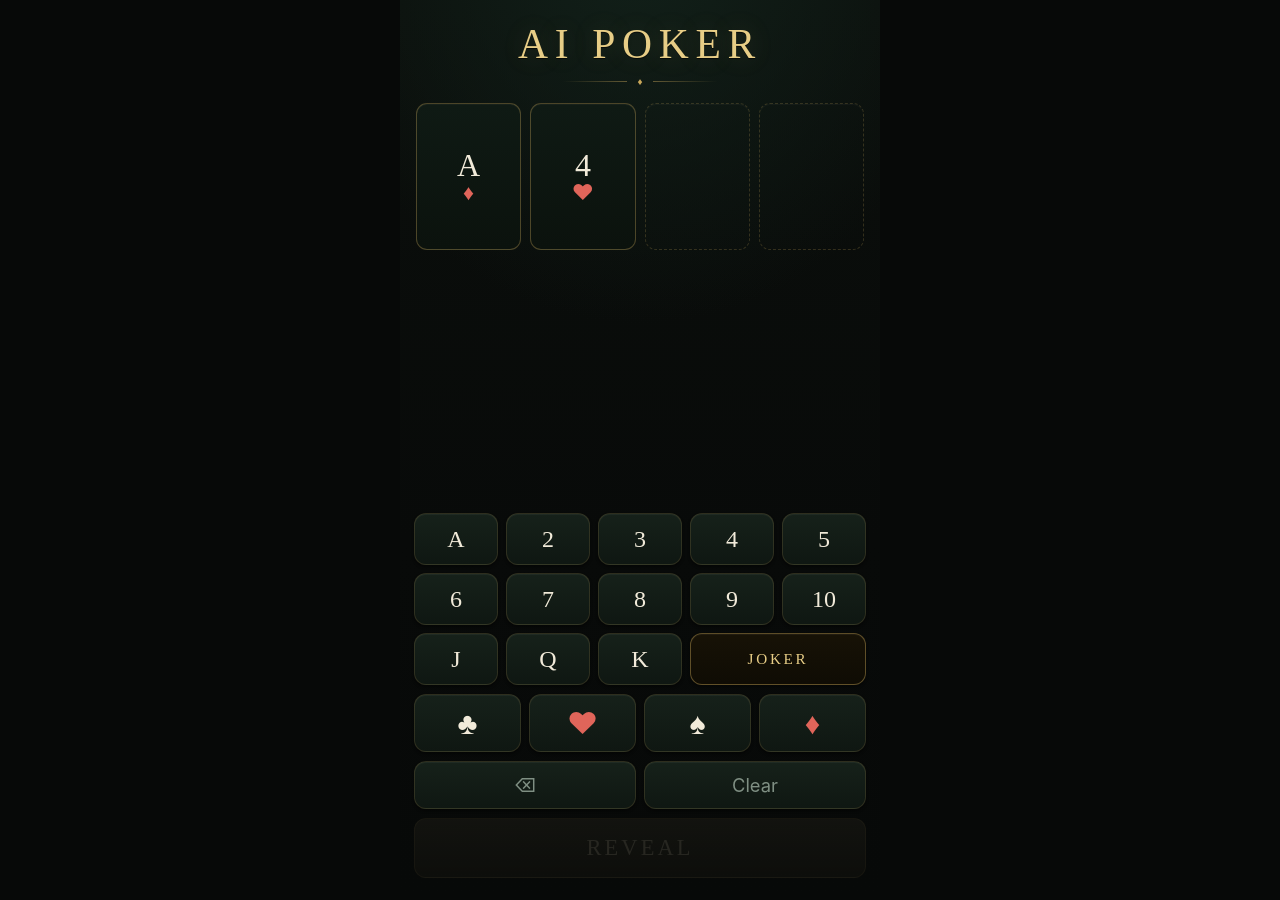
reveal flows › corrections cycle Instagram -> TikTok on successive Nos
The width and height of the screenshot is (1280, 900).
Earlier steps of the test are not shown.
Click the button "4": coordinates (732, 539) [690,513,774,565]
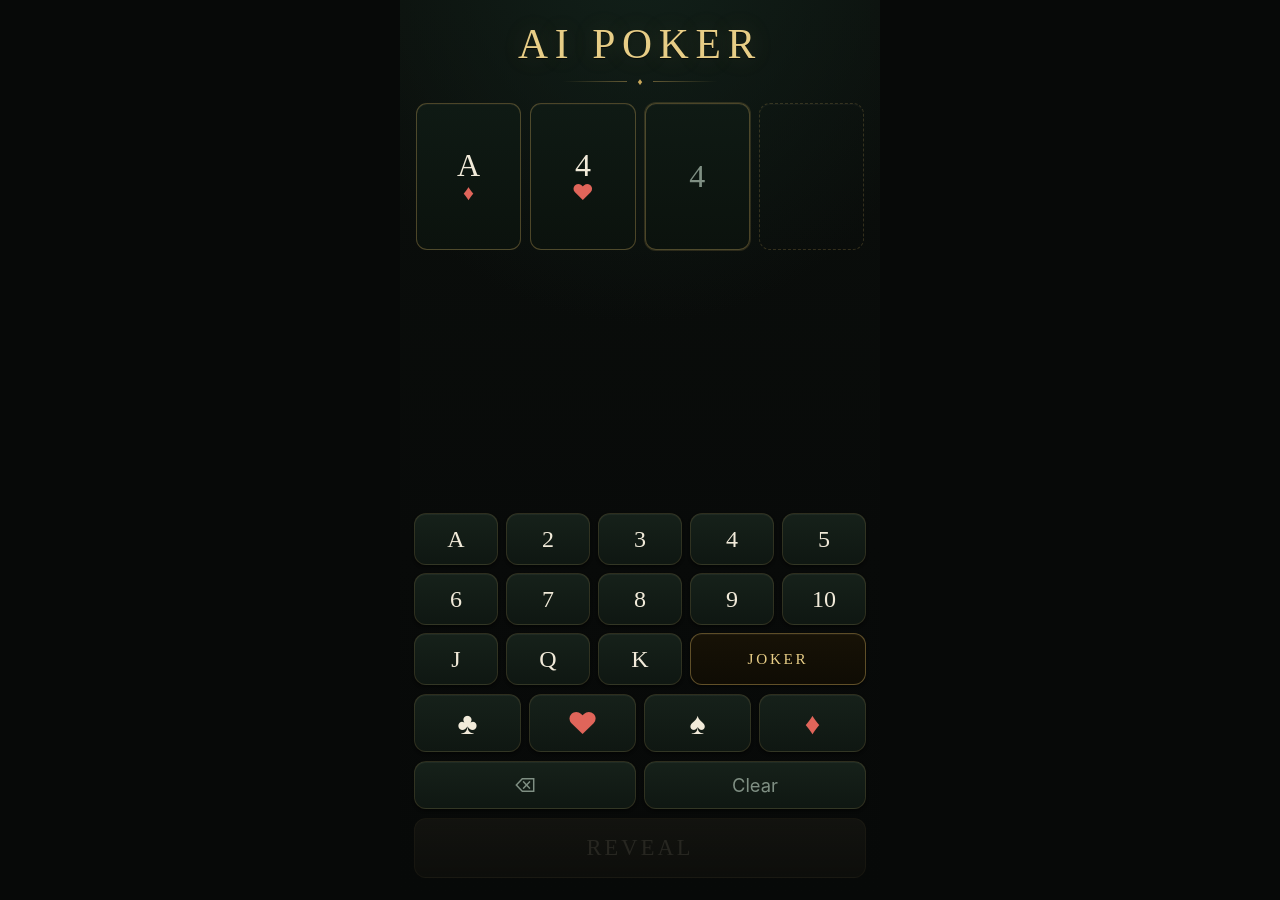
Click the button "♣": coordinates (468, 723) [414,694,521,752]
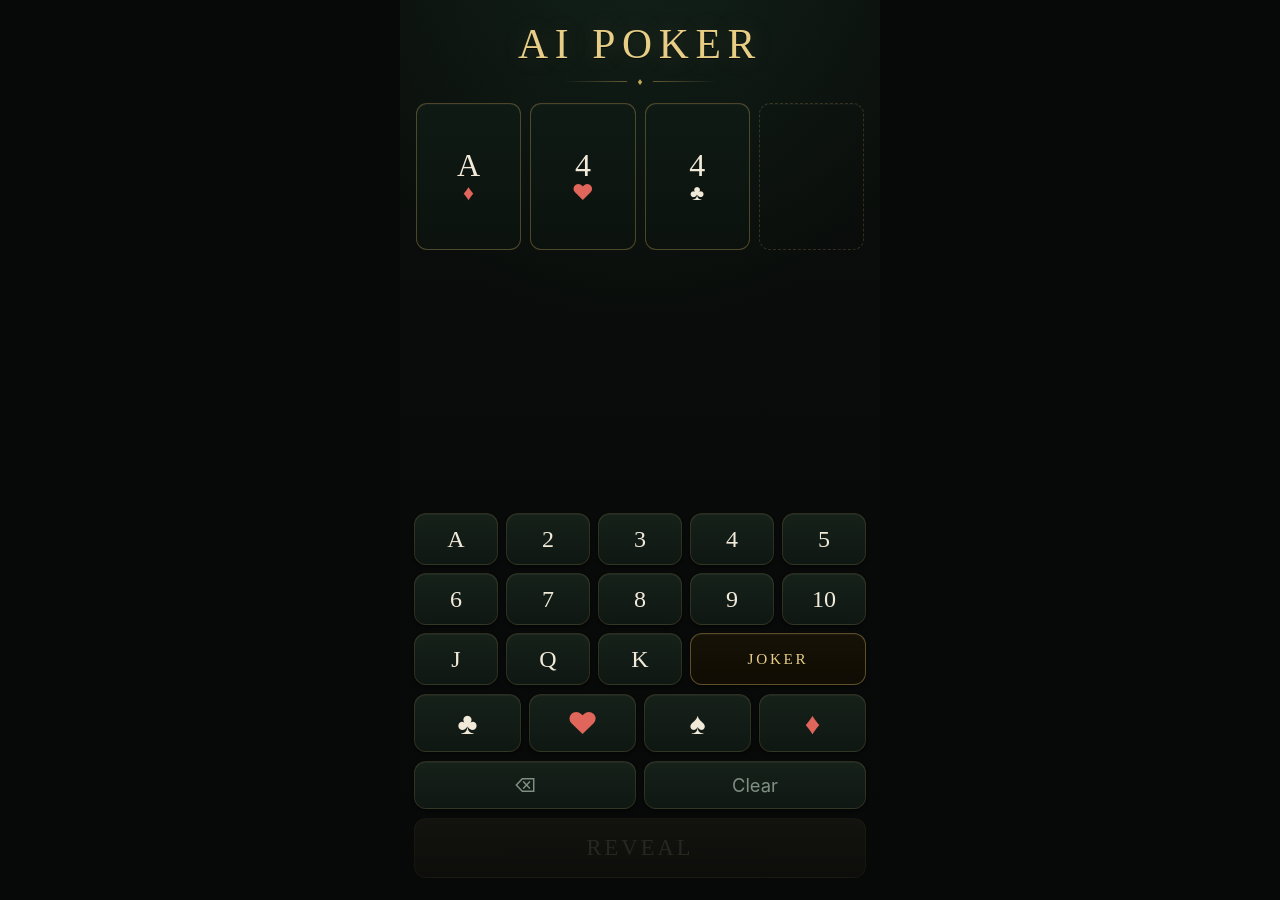
Click the button "A": coordinates (456, 539) [414,513,498,565]
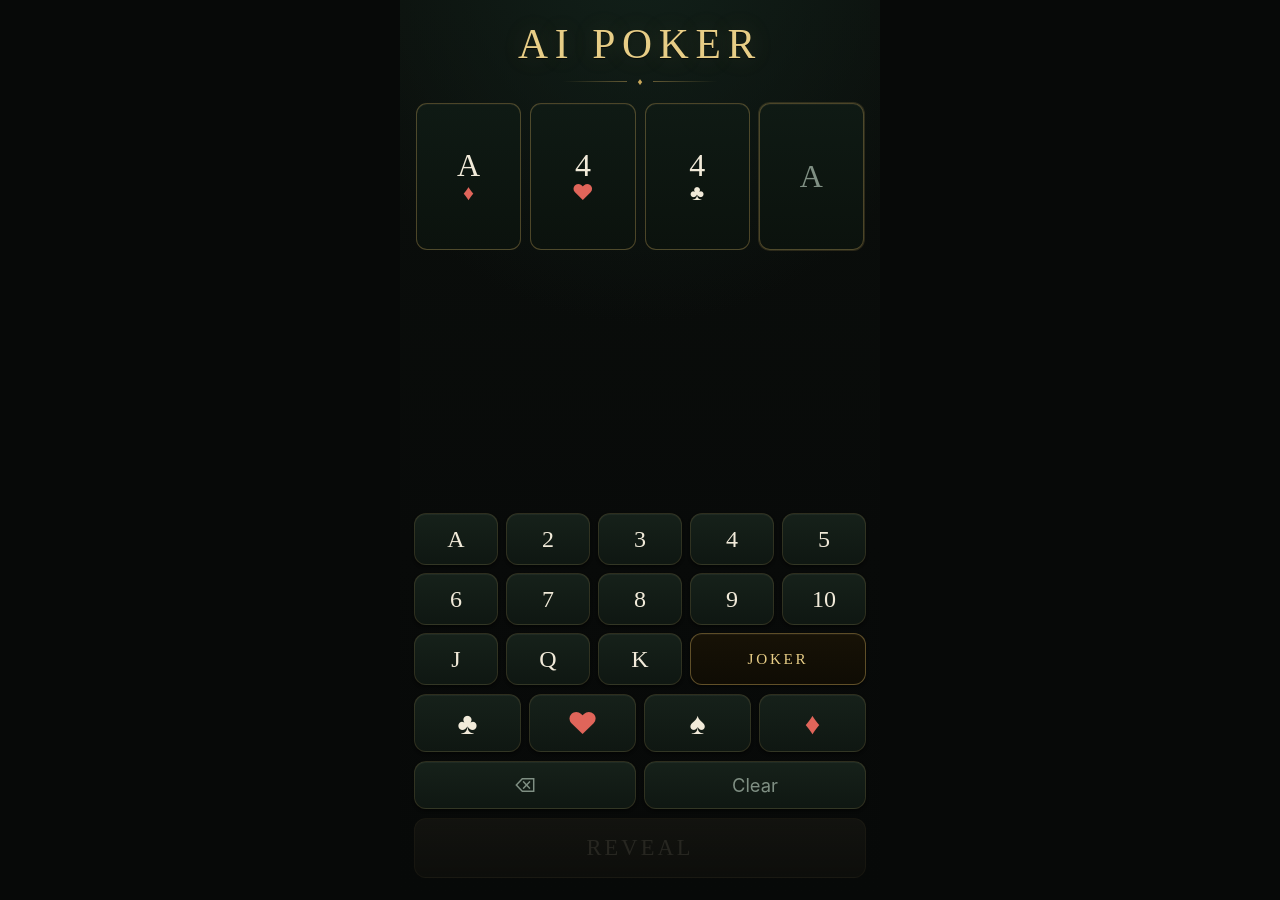
Click the button "♠": coordinates (698, 723) [644,694,751,752]
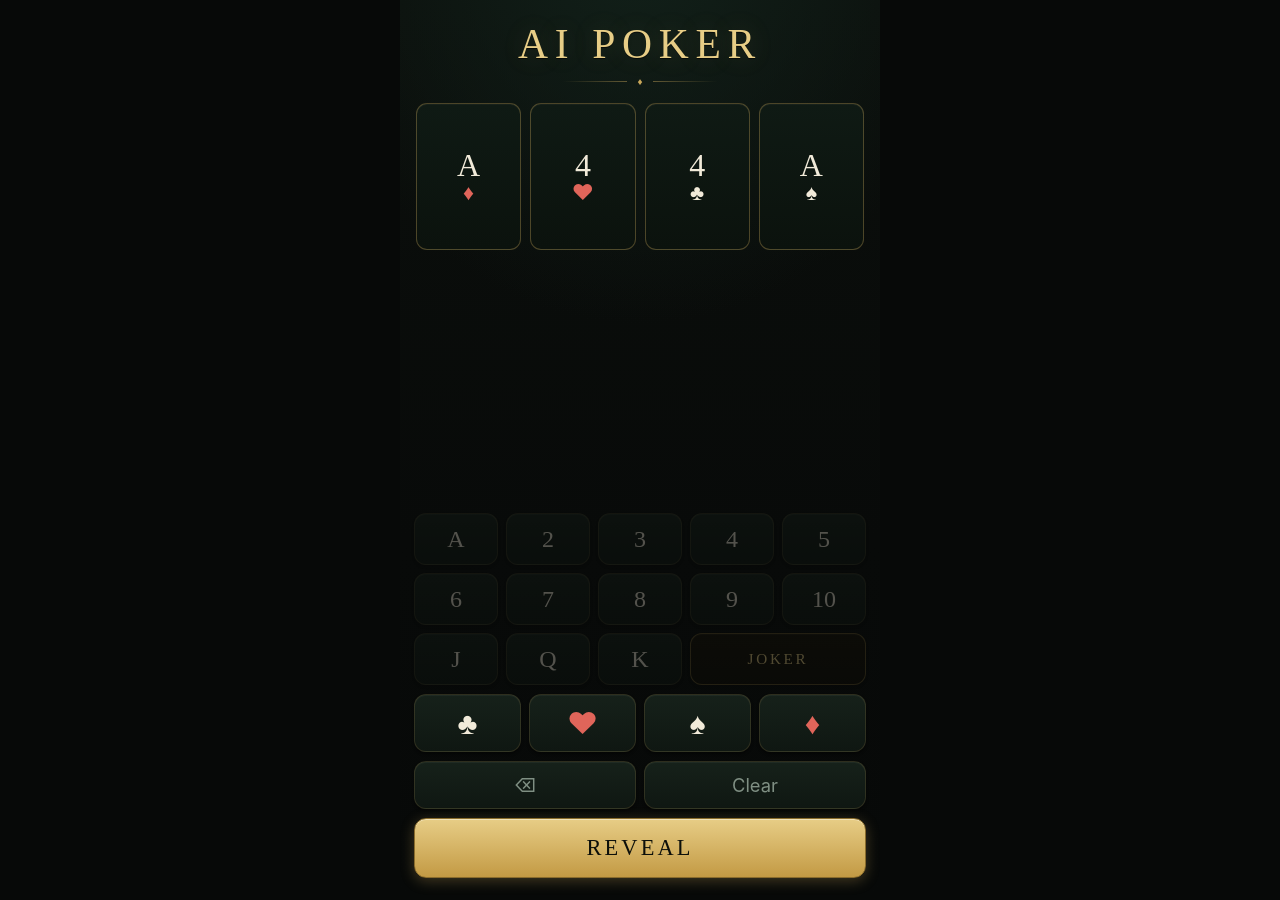
Click the button "Reveal": coordinates (640, 848) [414,818,866,878]
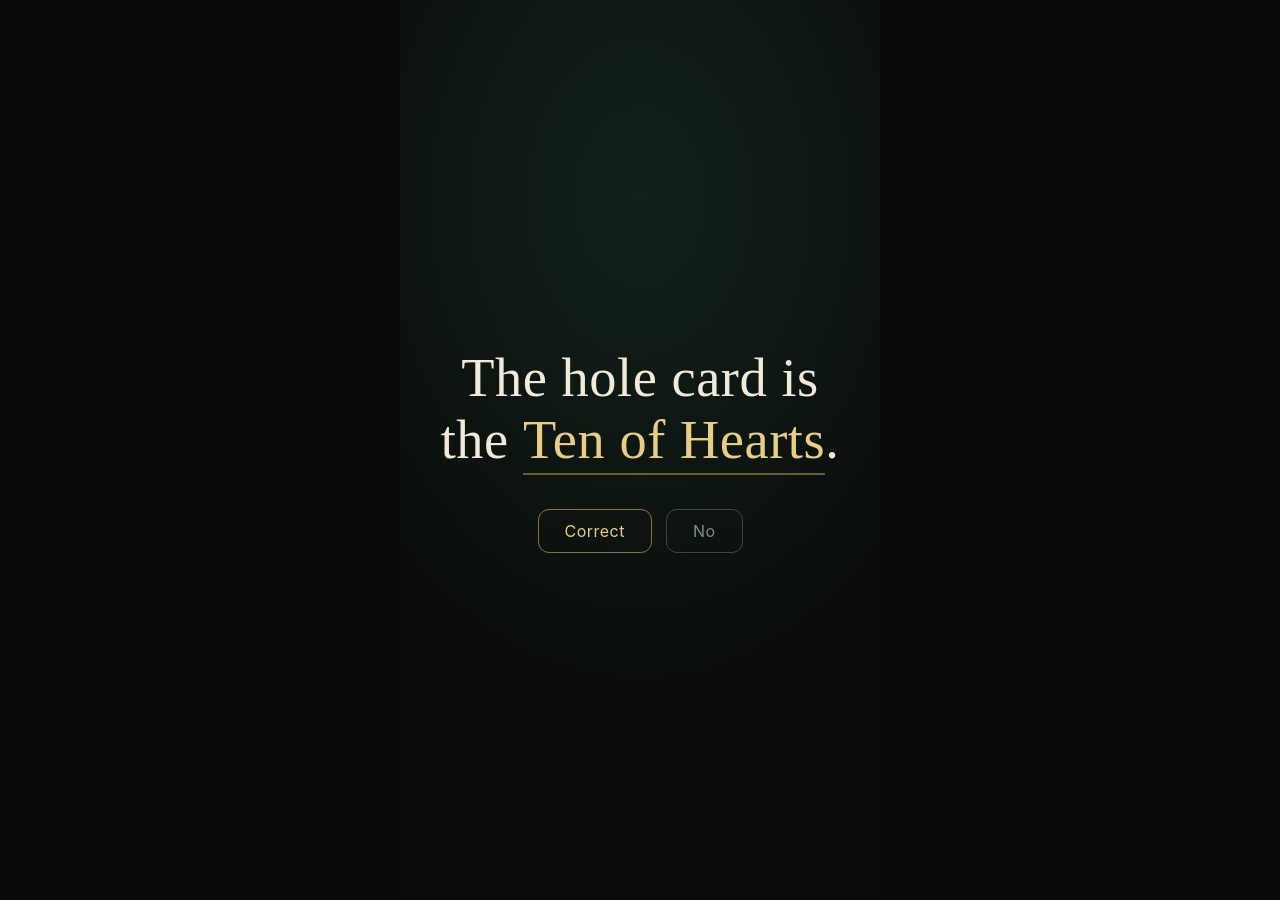
Click the button "No": coordinates (704, 531) [666,509,742,553]
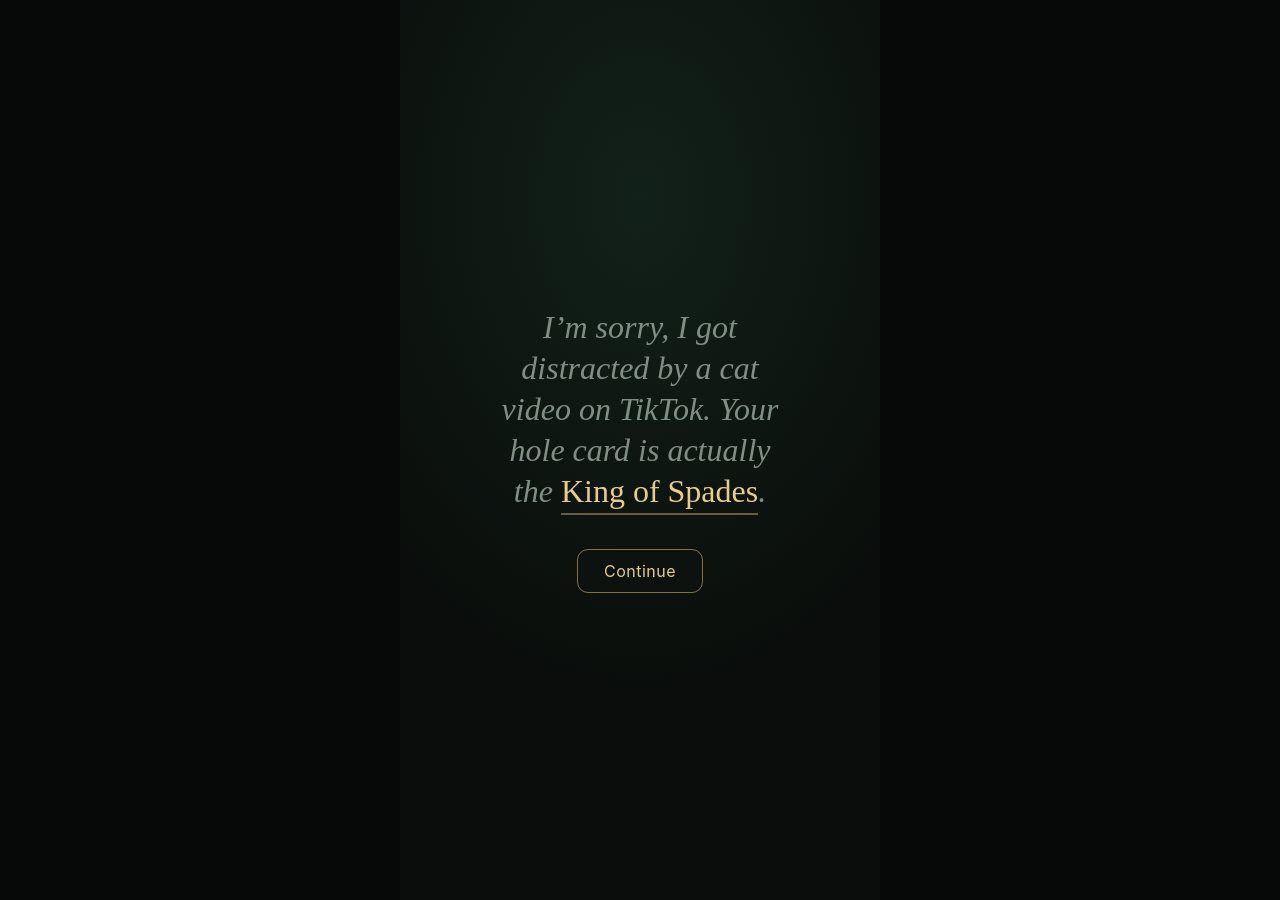
Check: the text "TikTok" is shown, box [502,309,778,509]
